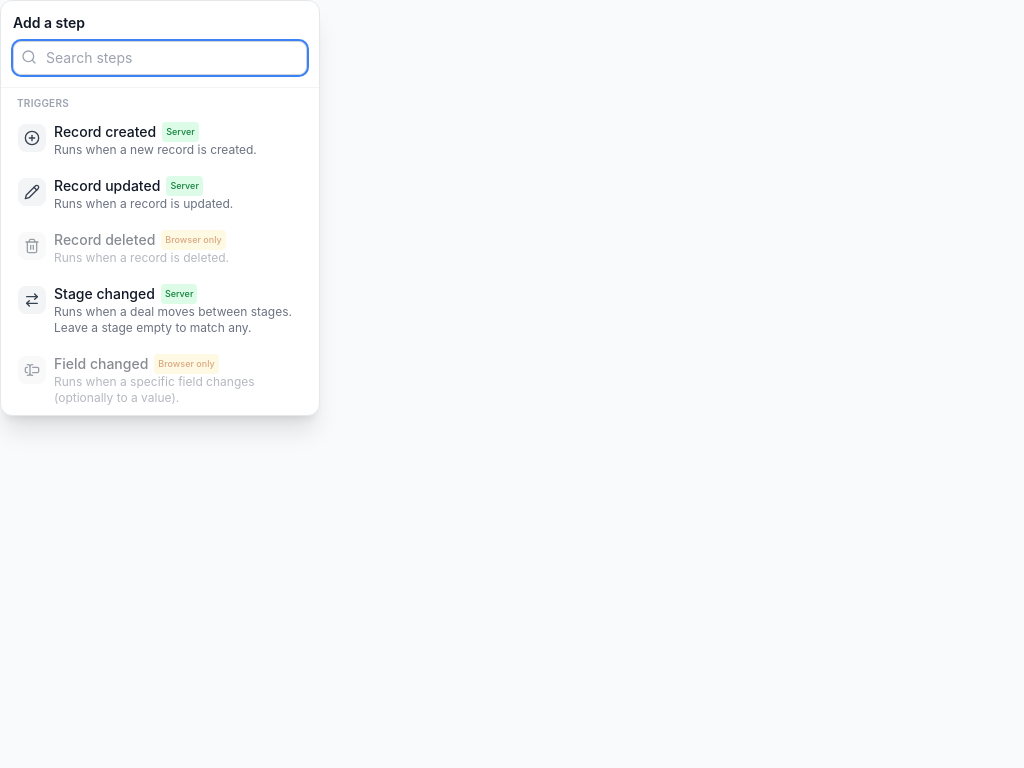
it: StepPicker › lists the catalog grouped by category and filters by search
In the field labelled "Search steps": coordinates (160, 58) x1=13 y1=41 x2=307 y2=75, type "email"
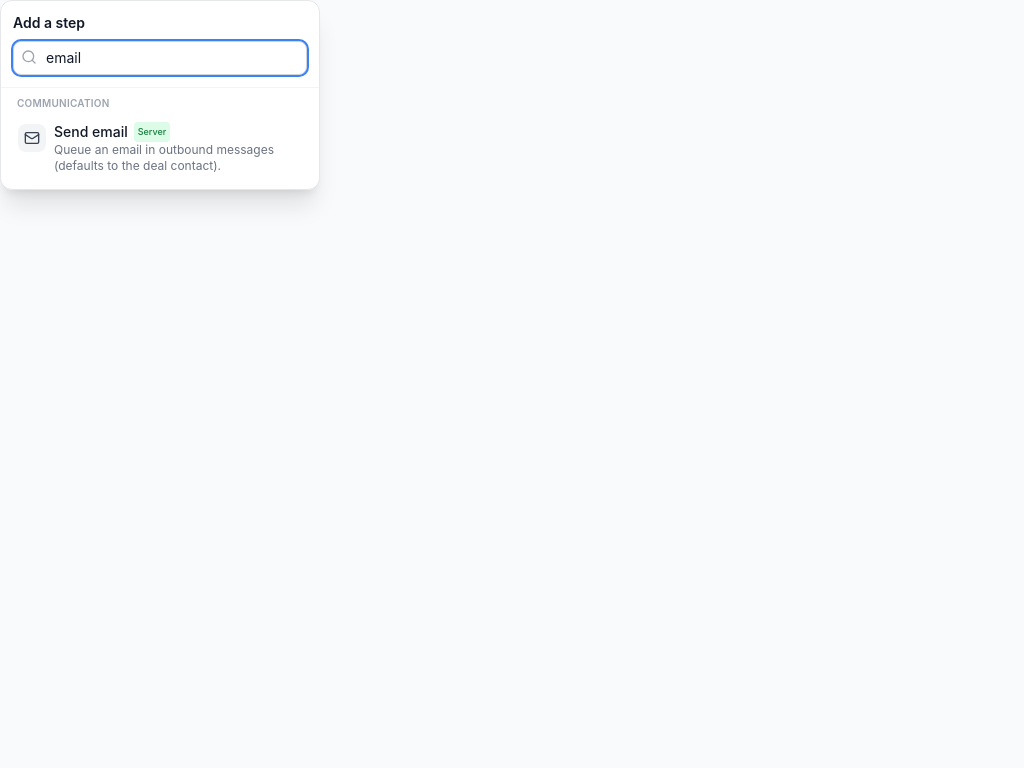
Now the button "Send email" is shown, box x1=9 y1=115 x2=311 y2=181
